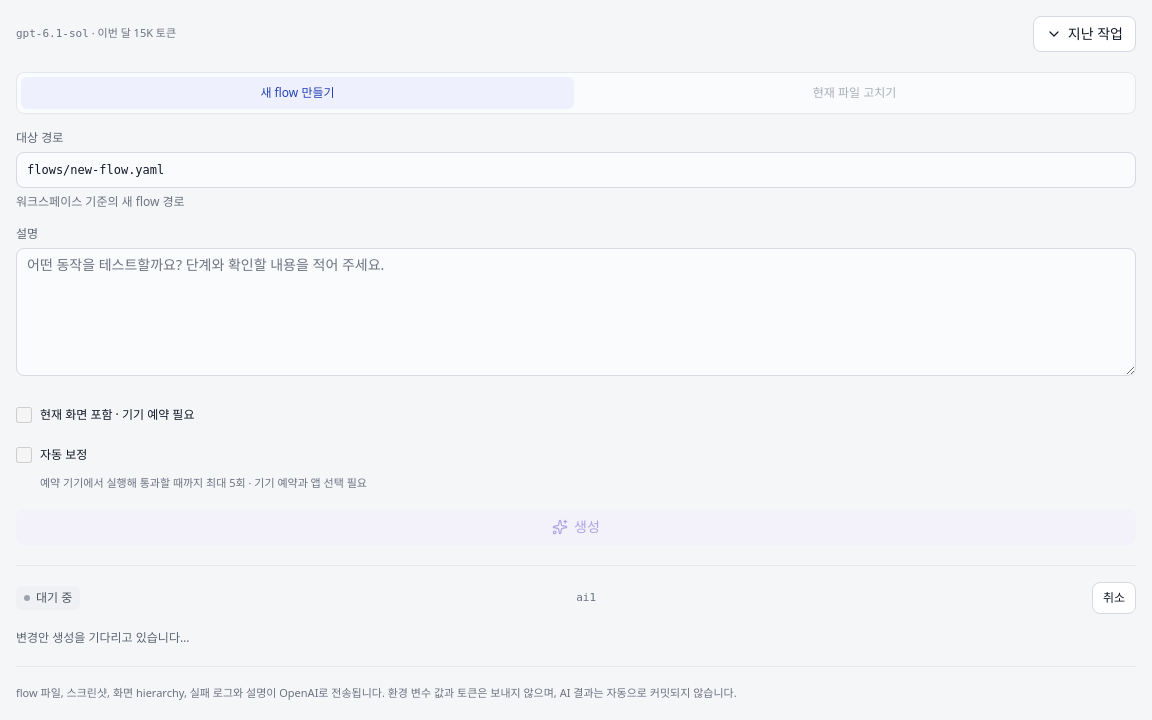
Test case: allows retry when a queued job's cancellation request fails
This screenshot has width=1152, height=720.
Click the button "취소".
click(1114, 598)  # box left=1092, top=582, right=1136, bottom=614
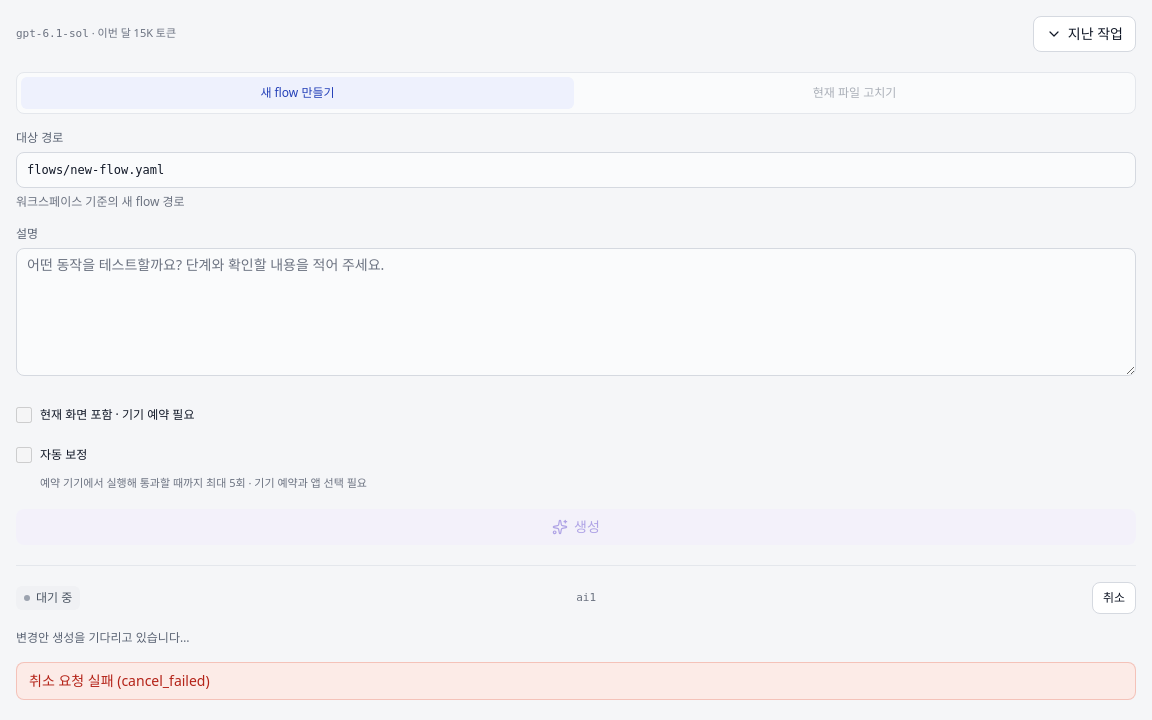
Expected: the text "대기 중" is shown, left=16, top=586, right=80, bottom=610
Expected: the message "취소 요청 실패 (cancel_failed)" is shown, left=16, top=662, right=1136, bottom=700
Click the button "취소".
click(1114, 598)  # box left=1092, top=582, right=1136, bottom=614
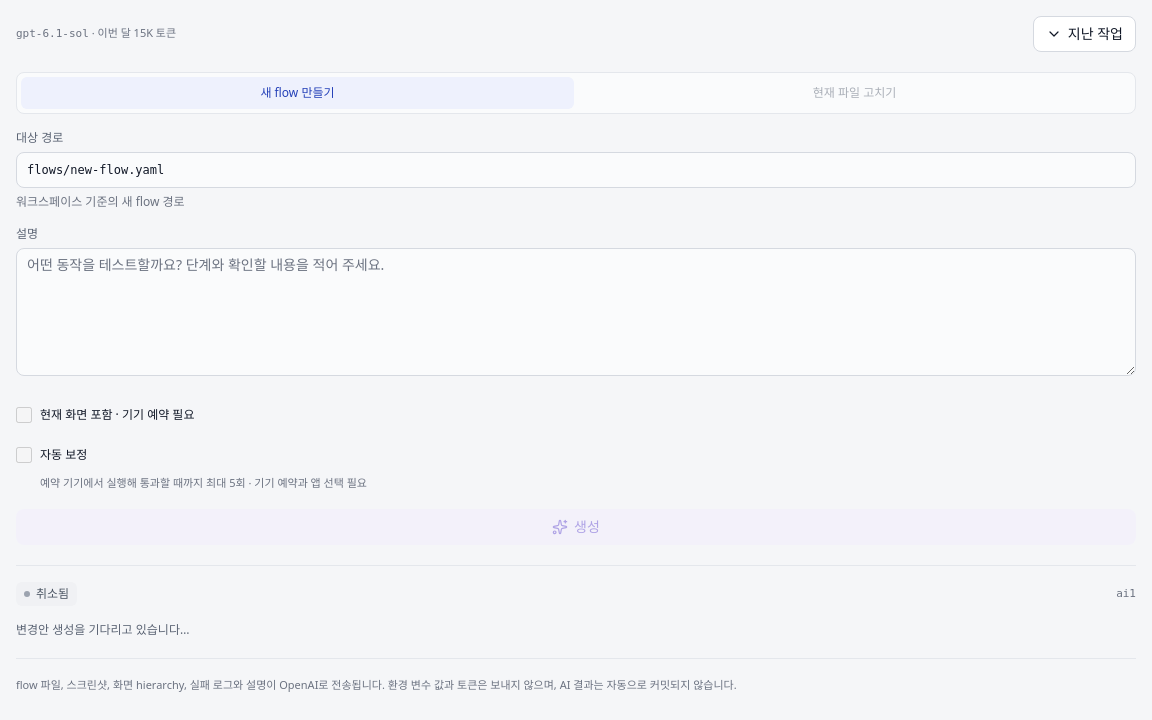
Expected: the text "취소됨" is shown, left=16, top=582, right=77, bottom=606
